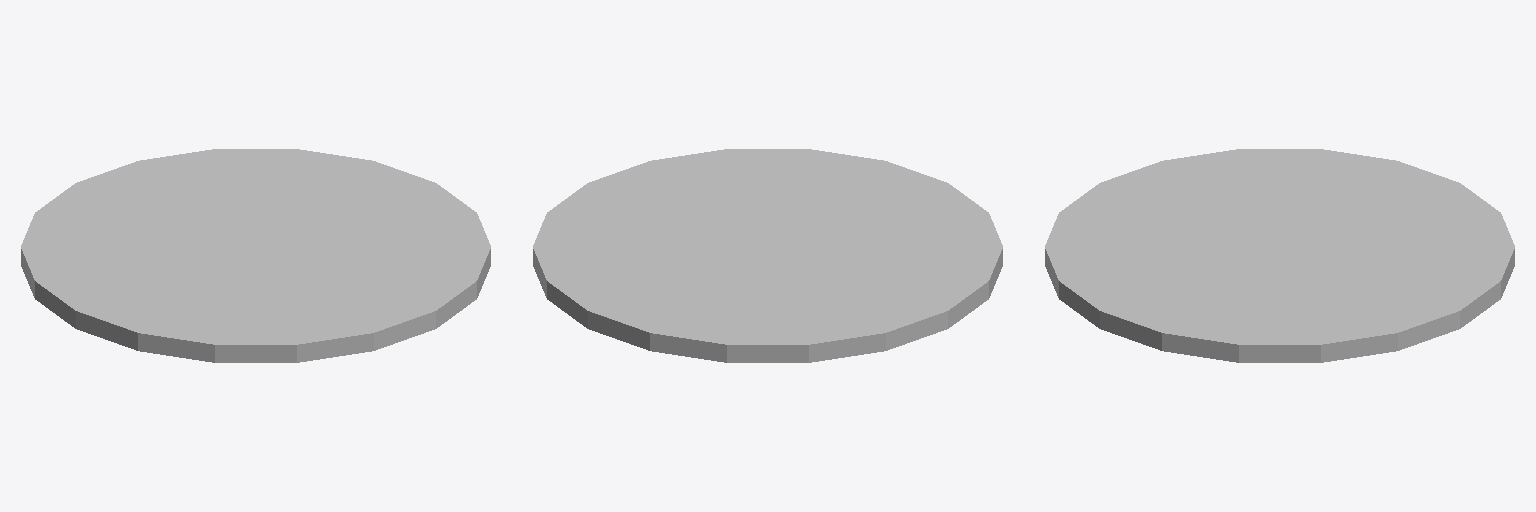
The model's file is Kitchen.obj.
3 renders of one model, left to right at view 1: azimuth 30°, elevation 25°; view 2: azimuth 150°, elevation 25°; view 3: azimuth 270°, elevation 25°, orthographic.
Visible parts, largest first — view 1: Box044, Cylinder005, Box045, Box032, Box038, Box048; view 2: Cylinder005, Box044, Box045, Box048, Box038, Box032; view 3: Cylinder005, Box044, Box045, Box038, Box048, Box032.
Part boxes in pixels (x1,y1,x2,y2): Box044: (22,149,489,344); Cylinder005: (21,149,490,362); Box045: (23,149,489,344); Box032: (78,251,474,344); Box038: (21,185,472,344); Box048: (37,150,489,344); Cylinder005: (533,149,1002,362); Box044: (533,154,1002,344); Box045: (533,149,1002,344); Box048: (547,149,987,344); Box038: (728,150,1001,344); Box032: (727,149,1001,277); Cylinder005: (1045,149,1514,362); Box044: (1048,149,1514,344); Box045: (1048,149,1513,344); Box038: (1045,149,1500,309); Box048: (1055,150,1497,343); Box032: (1045,149,1265,310).
Bounding box in the file's own units: 1510 × 65.27 × 1533.